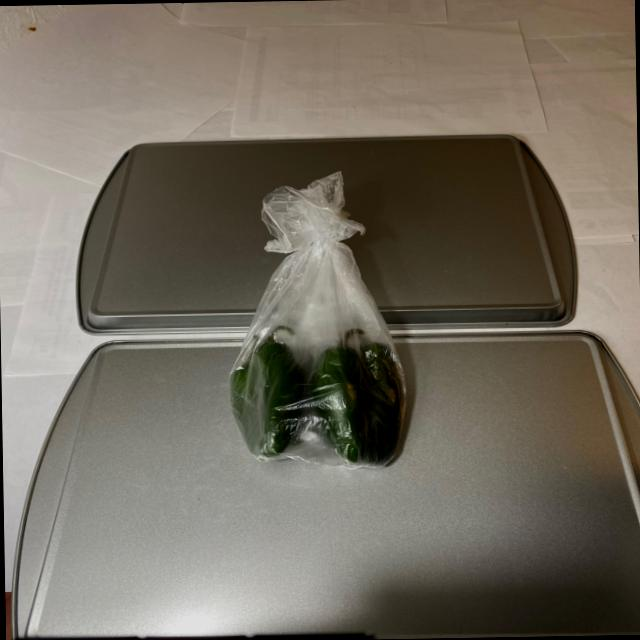chilli: (220, 308, 416, 470)
